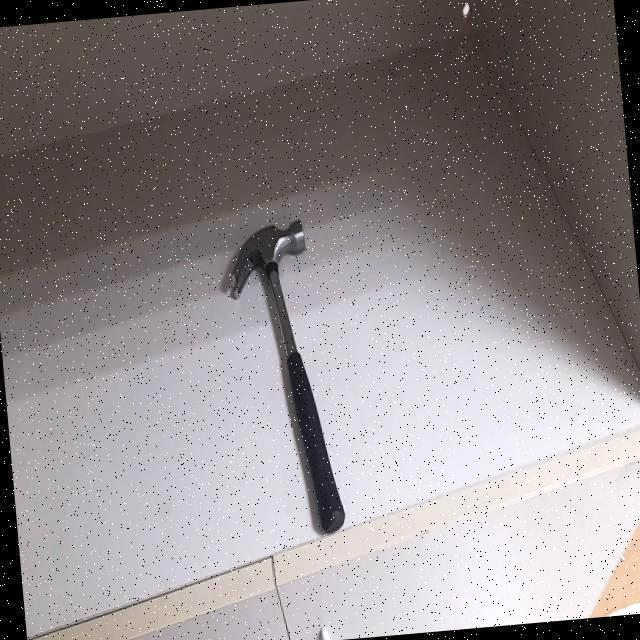hammer: (212, 225, 342, 527)
